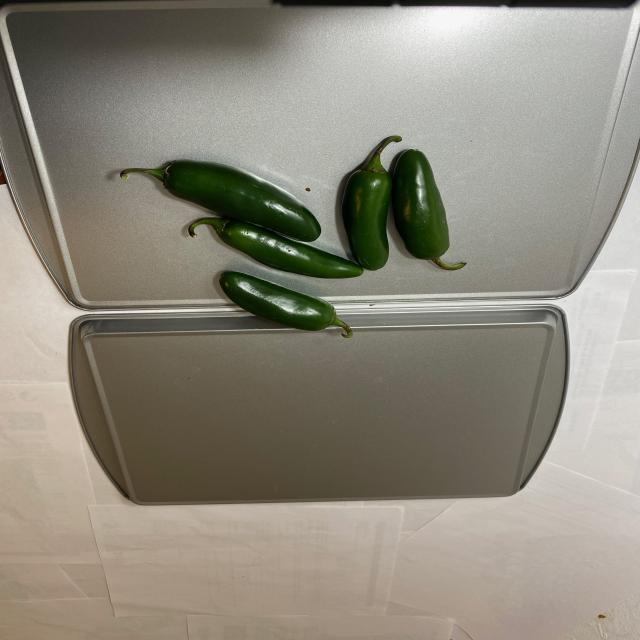chilli: (110, 132, 494, 345)
